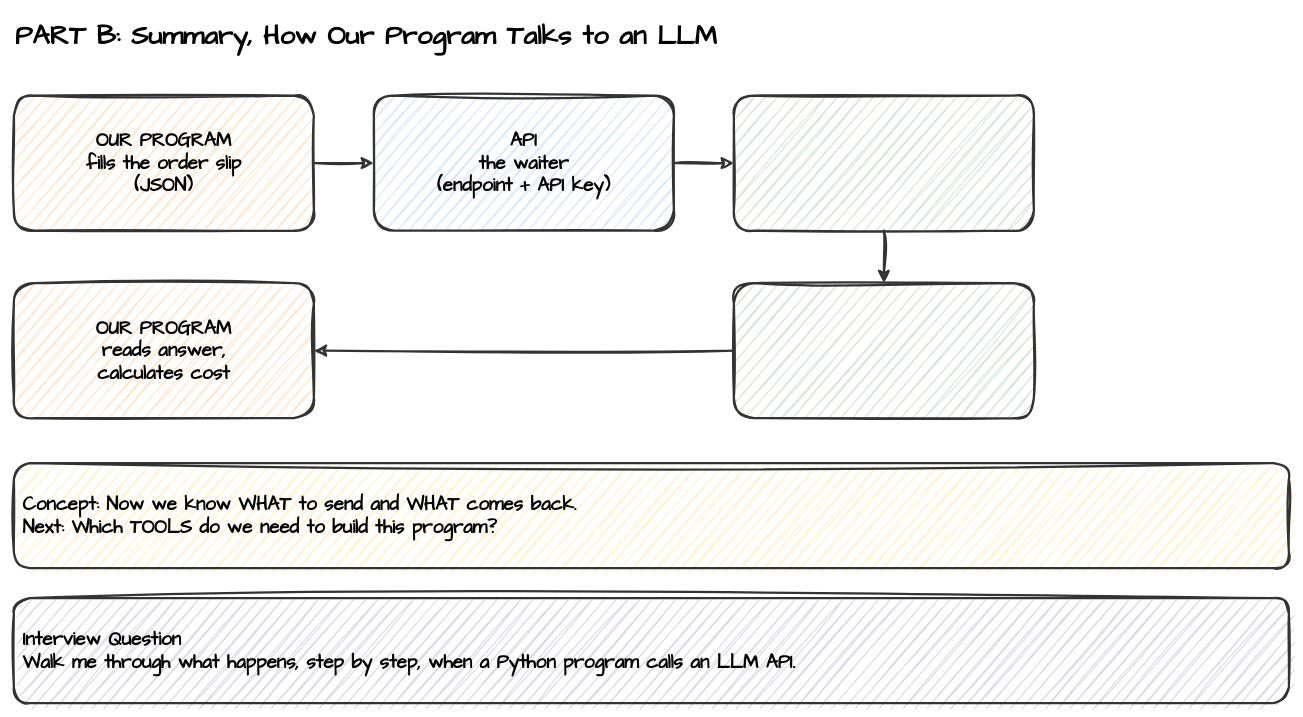
Image size: 1303x717. Some labels were removed from this diagram. The box of each missing label's shape, as (x1, y1, x2, y2) in pixels:
LLM the chef (GPT / Claude / Gemini): (732, 94, 1035, 231)
RESPONSE food + bill (answer + tokens): (732, 282, 1035, 419)
